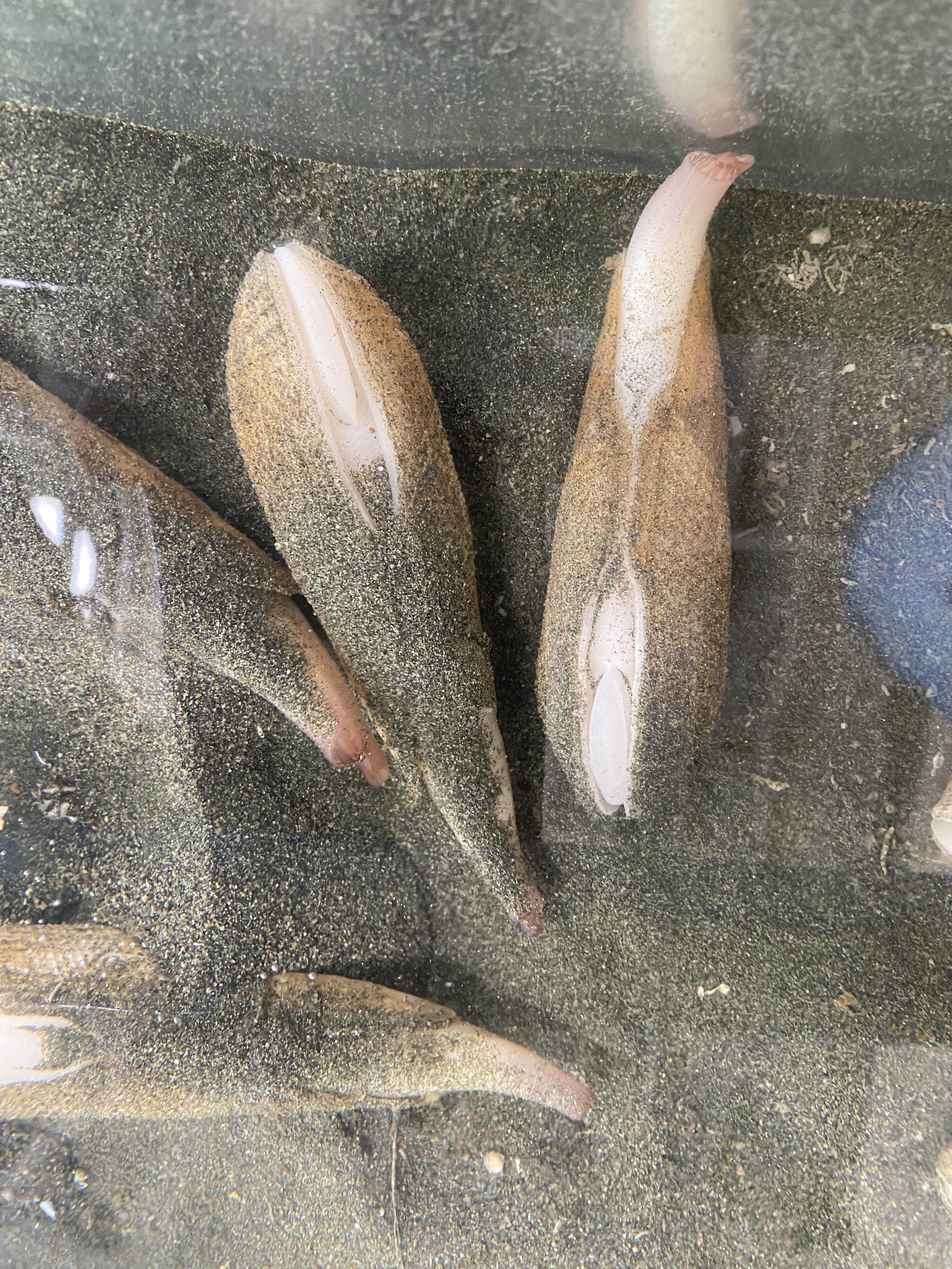Healthy: (226, 240, 542, 933), (0, 362, 389, 786), (538, 151, 752, 815), (0, 923, 594, 1121)
